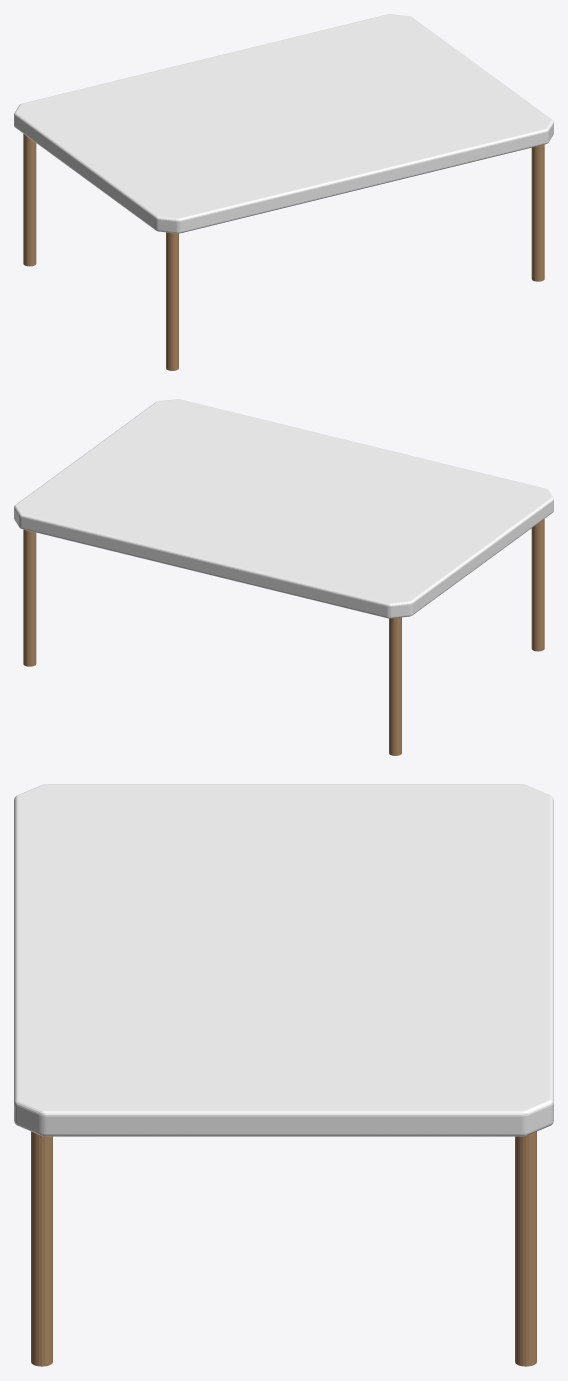
The picture shows the model from 3 angles, top to bottom: view 1: azimuth 30°, elevation 25°; view 2: azimuth 150°, elevation 25°; view 3: azimuth 270°, elevation 25°; orthographic projection. The views are drawn at different scales.
Parts seen in each view (by area): view 1: HORNEADO_tablero, pata_1_1, pata_-1_1, pata_-1_-1; view 2: HORNEADO_tablero, pata_1_-1, pata_-1_-1, pata_-1_1; view 3: HORNEADO_tablero, pata_1_1, pata_1_-1.
Part boxes in pixels (x1,y1,x2,y2): HORNEADO_tablero: [14, 14, 553, 233]; pata_1_1: [531, 144, 544, 281]; pata_-1_1: [166, 232, 178, 370]; pata_-1_-1: [23, 134, 36, 266]; HORNEADO_tablero: [14, 399, 553, 618]; pata_1_-1: [23, 529, 36, 666]; pata_-1_-1: [389, 617, 401, 755]; pata_-1_1: [531, 519, 544, 651]; HORNEADO_tablero: [14, 784, 553, 1136]; pata_1_1: [31, 1131, 52, 1366]; pata_1_-1: [515, 1131, 536, 1366].
Size of what is drawn, in the model's own units: 39 by 14.5 by 27.
Materials: 2 (1 with a texture image).
